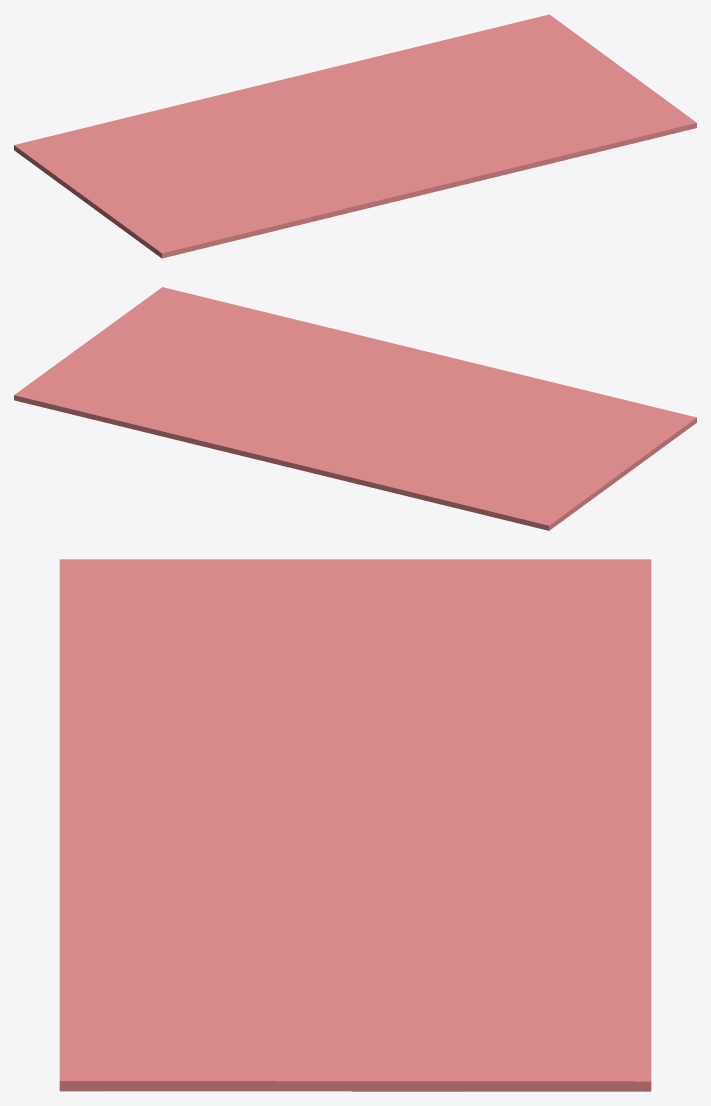
The model's file is S_Envi_Laboratory_Roof_001b.gltf.
The picture shows the model from 3 angles, top to bottom: view 1: azimuth 30°, elevation 25°; view 2: azimuth 150°, elevation 25°; view 3: azimuth 270°, elevation 25°; orthographic projection. The views are drawn at different scales.
Visible parts, largest first — view 1: S_Envi_Laboratory_Roof_001b; view 2: S_Envi_Laboratory_Roof_001b; view 3: S_Envi_Laboratory_Roof_001b.
Boxes of the visible parts, x1,y1,x2,y2 form: S_Envi_Laboratory_Roof_001b: [14, 14, 696, 258]; S_Envi_Laboratory_Roof_001b: [14, 287, 696, 530]; S_Envi_Laboratory_Roof_001b: [59, 559, 651, 1091].
Bounding box in the file's own units: 37.8 × 0.4821 × 18.09.
